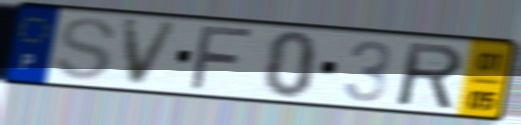0: (258, 28, 321, 101)
3: (342, 38, 393, 103)
F: (185, 24, 260, 93)
R: (397, 40, 467, 112)
S: (52, 15, 120, 83)
V: (120, 18, 185, 89)
